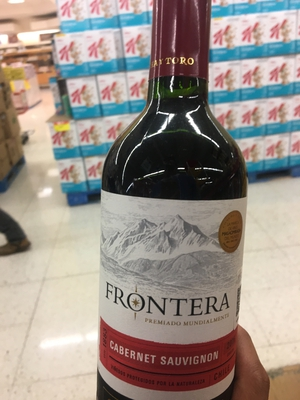frontera cabernet sauvignon: (91, 12, 255, 397)
